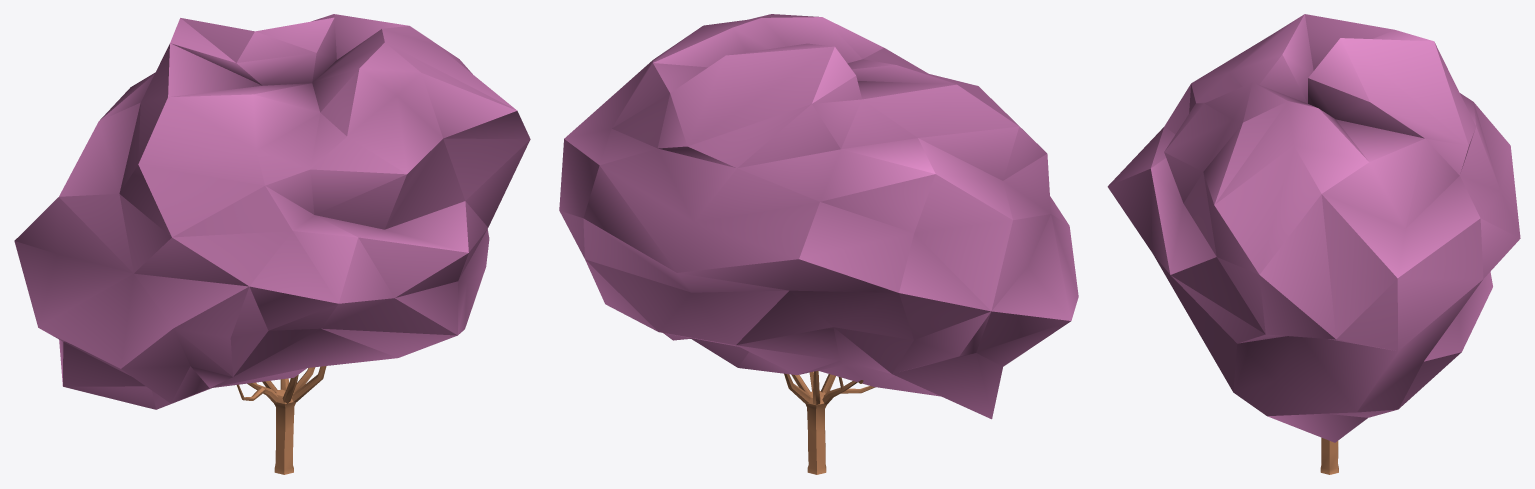
The model's file is tree_cherry_1.glb.
3 renders of one model, left to right at view 1: azimuth 30°, elevation 25°; view 2: azimuth 150°, elevation 25°; view 3: azimuth 270°, elevation 25°, orthographic. The views are drawn at different scales.
Parts seen in each view (by area): view 1: tree_cherry_1; view 2: tree_cherry_1; view 3: tree_cherry_1.
Boxes of the visible parts, x1=… form: tree_cherry_1: x1=14, y1=14, x2=530, y2=474; tree_cherry_1: x1=559, y1=14, x2=1078, y2=474; tree_cherry_1: x1=1107, y1=14, x2=1520, y2=474.
Bounding box in the file's own units: 9.1 × 8 × 7.11.
